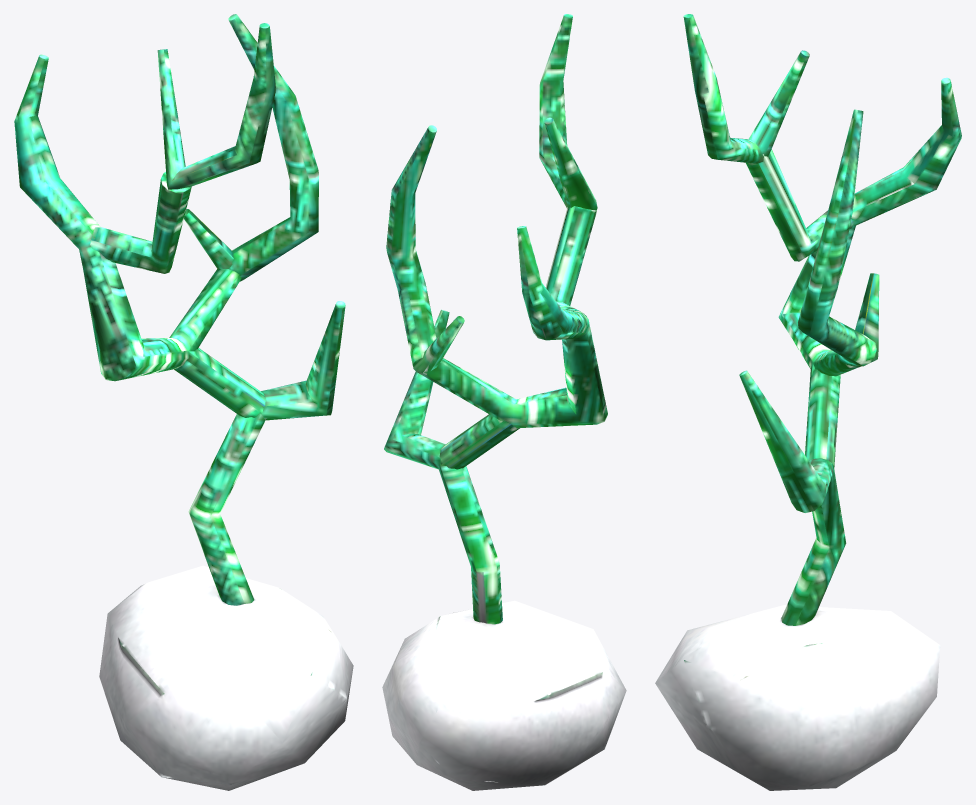
The model's file is GreenGrass.glb.
3 views of the same model, side by side, from view 1: azimuth 30°, elevation 25°; view 2: azimuth 150°, elevation 25°; view 3: azimuth 270°, elevation 25° (orthographic). The views are drawn at different scales.
Visible parts, largest first — view 1: 平面.005, 棱角球.002; view 2: 平面.005, 棱角球.002; view 3: 棱角球.002, 平面.005.
Boxes of the visible parts, x1=… form: 平面.005: x1=14, y1=14, x2=345, y2=605; 棱角球.002: x1=99, y1=565, x2=353, y2=790; 平面.005: x1=384, y1=14, x2=607, y2=624; 棱角球.002: x1=382, y1=600, x2=626, y2=790; 棱角球.002: x1=655, y1=605, x2=940, y2=790; 平面.005: x1=683, y1=14, x2=961, y2=625.
Size of what is drawn, in the model's own units: 2.56 by 7.65 by 2.83.
Materials: 2 (2 with a texture image).
